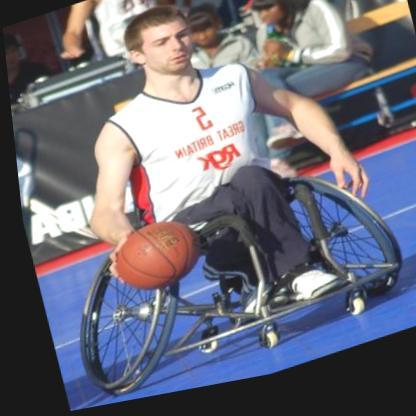basketball: (104, 217, 196, 303)
